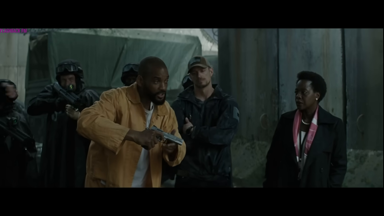firearm: (50, 80, 82, 114), (147, 122, 184, 147)
